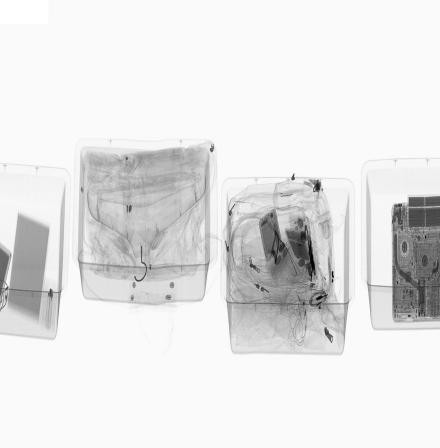Lighter: (295, 288, 308, 313)
